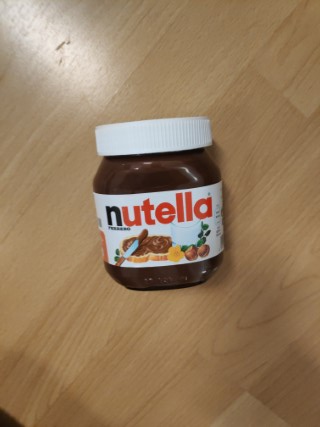nutella: (90, 113, 224, 292)
